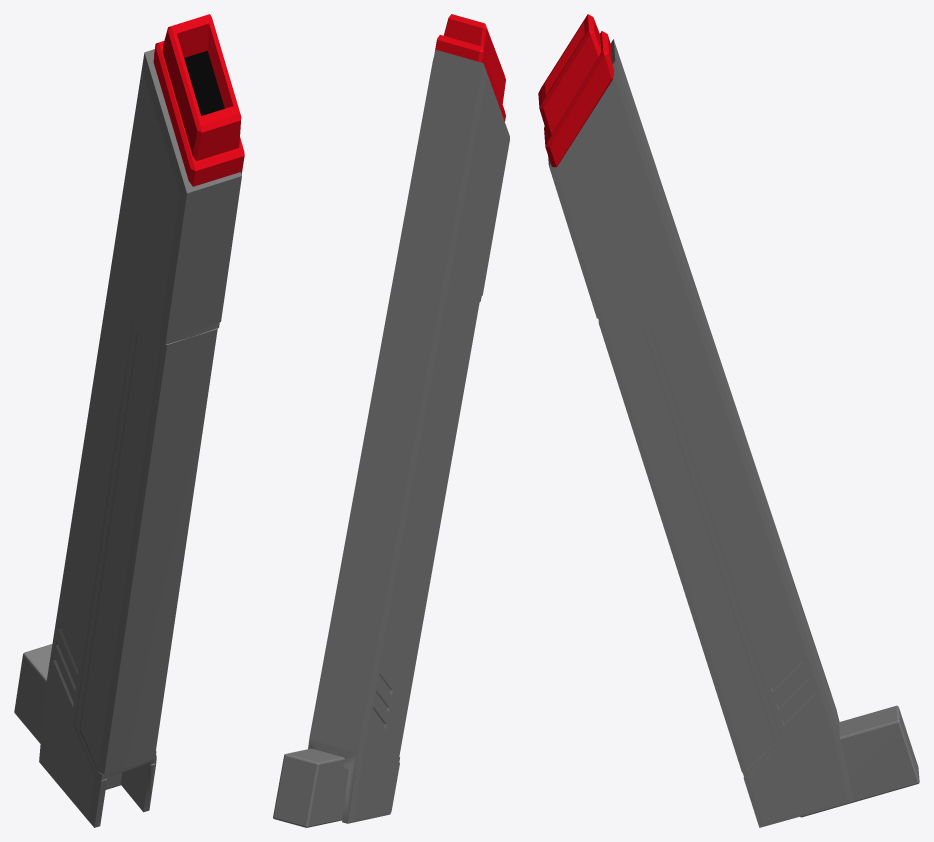
Rendered from leftLegGunPoint.obj.
3 renders of one model, left to right at view 1: azimuth 30°, elevation 25°; view 2: azimuth 150°, elevation 25°; view 3: azimuth 270°, elevation 25°, orthographic. The views are drawn at different scales.
Parts seen in each view (by area): view 1: leftLegGunPoint freedom:transform18, leftLegGunPoint freedom:ChafCaja1246, leftLegGunPoint freedom:ChafCaja1245, freedom:ChamferBox08 leftLegGunPoint; view 2: leftLegGunPoint freedom:transform18, freedom:ChamferBox08 leftLegGunPoint, leftLegGunPoint freedom:ChafCaja1246, leftLegGunPoint freedom:ChafCaja1245; view 3: leftLegGunPoint freedom:transform18, freedom:ChamferBox08 leftLegGunPoint, leftLegGunPoint freedom:ChafCaja1246, leftLegGunPoint freedom:ChafCaja1245.
Boxes of the visible parts, x1,y1,x2,y2 form: leftLegGunPoint freedom:transform18: (39, 49, 241, 827); leftLegGunPoint freedom:ChafCaja1246: (162, 14, 241, 161); leftLegGunPoint freedom:ChafCaja1245: (153, 41, 244, 186); freedom:ChamferBox08 leftLegGunPoint: (14, 644, 122, 789); leftLegGunPoint freedom:transform18: (308, 50, 509, 823); freedom:ChamferBox08 leftLegGunPoint: (273, 748, 348, 827); leftLegGunPoint freedom:ChafCaja1246: (443, 14, 505, 103); leftLegGunPoint freedom:ChafCaja1245: (434, 35, 505, 121); leftLegGunPoint freedom:transform18: (548, 39, 853, 827); freedom:ChamferBox08 leftLegGunPoint: (800, 705, 919, 817); leftLegGunPoint freedom:ChafCaja1246: (538, 14, 601, 138); leftLegGunPoint freedom:ChafCaja1245: (544, 31, 614, 167).
Bounding box in the file's own units: 5.53 × 50.3 × 22.11.
